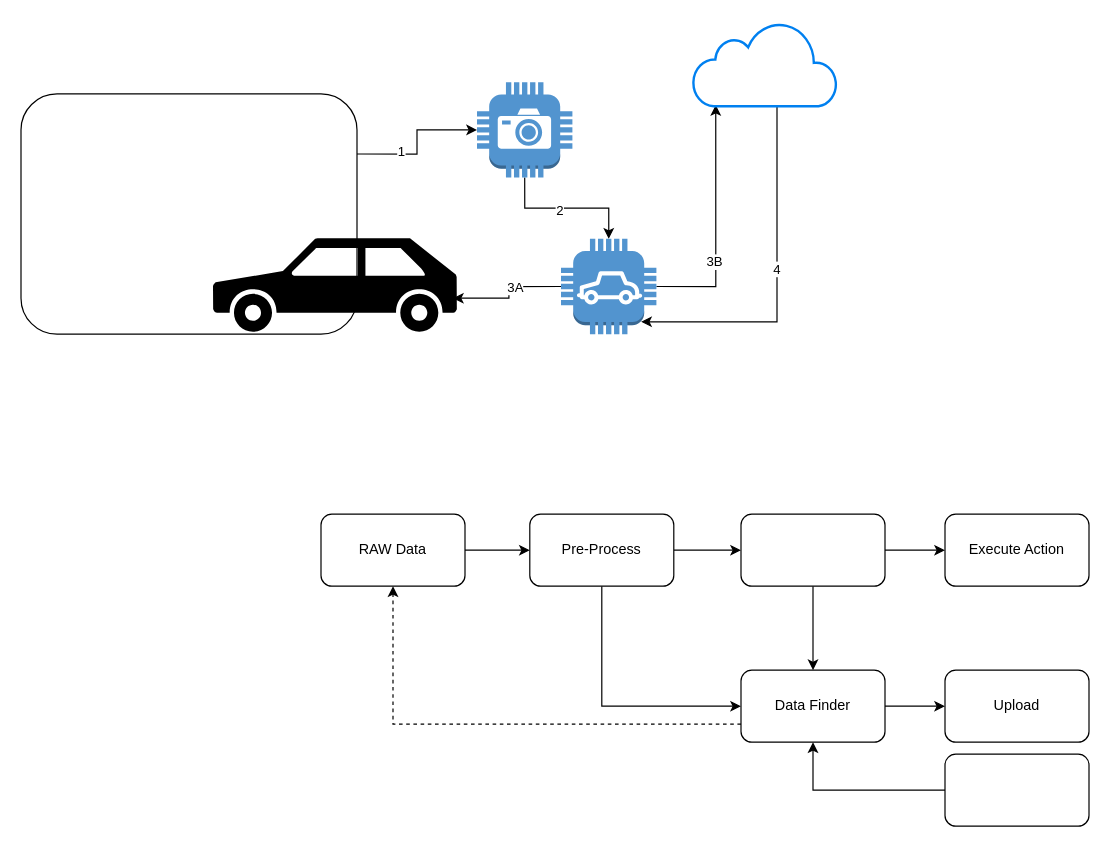
The diagram is 1110 pixels wide and 847 high, and some of its shapes have lost their labels. Here are the shapes that lost their labels. From the top down, the centre of each, then its label:
At (812,549): "Decision Control".
At (1016,789): "Request".
